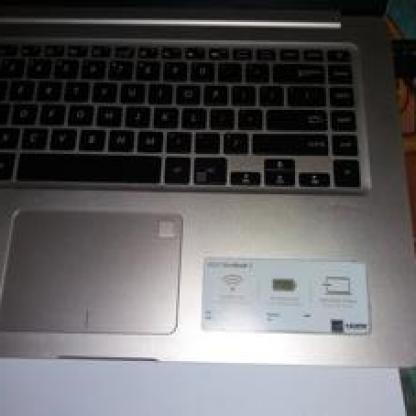keyboard: (0, 24, 378, 224)
